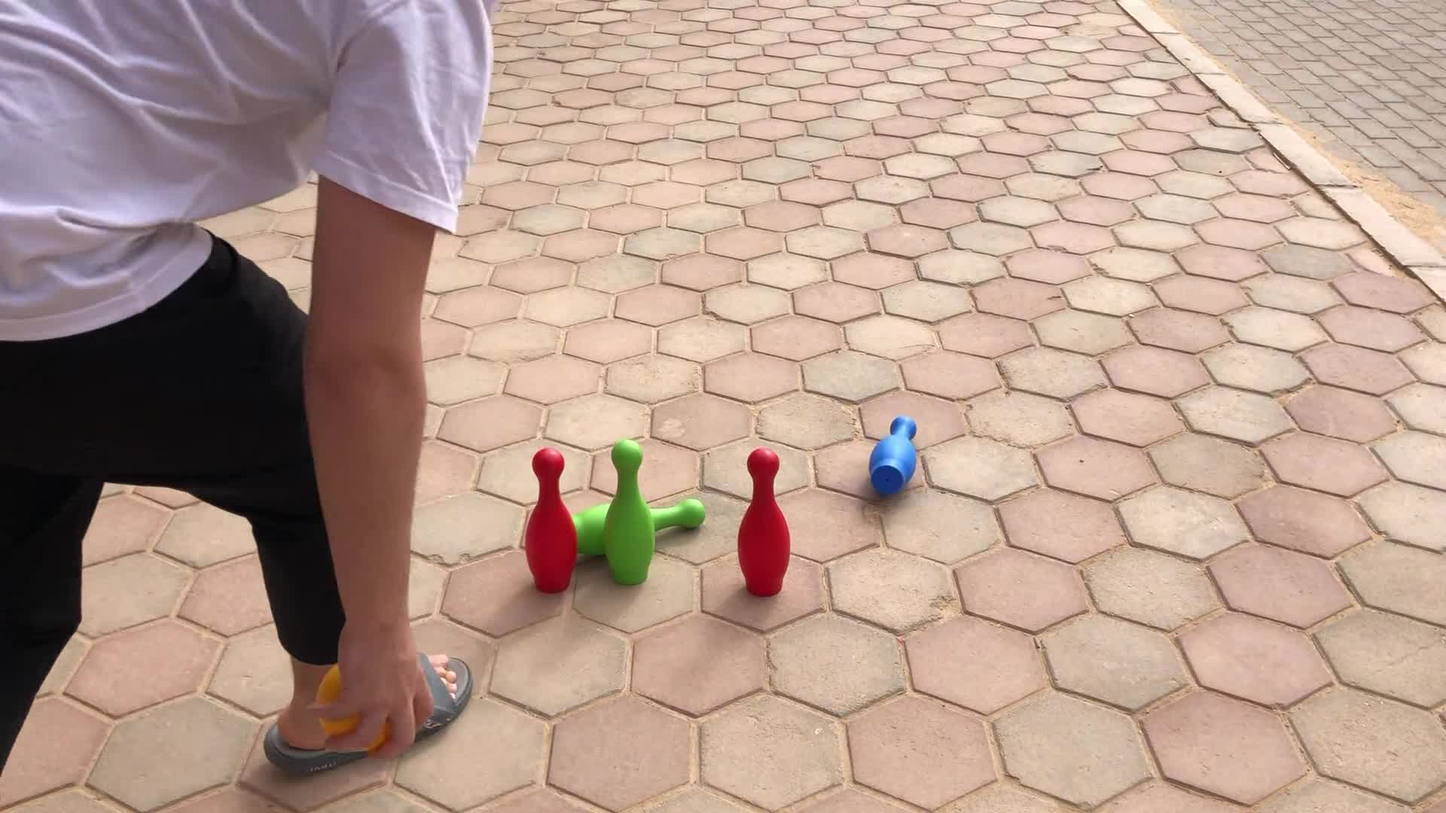pin: (738, 448, 790, 596), (526, 449, 578, 592), (604, 439, 655, 583), (867, 415, 915, 496), (650, 498, 706, 530)
